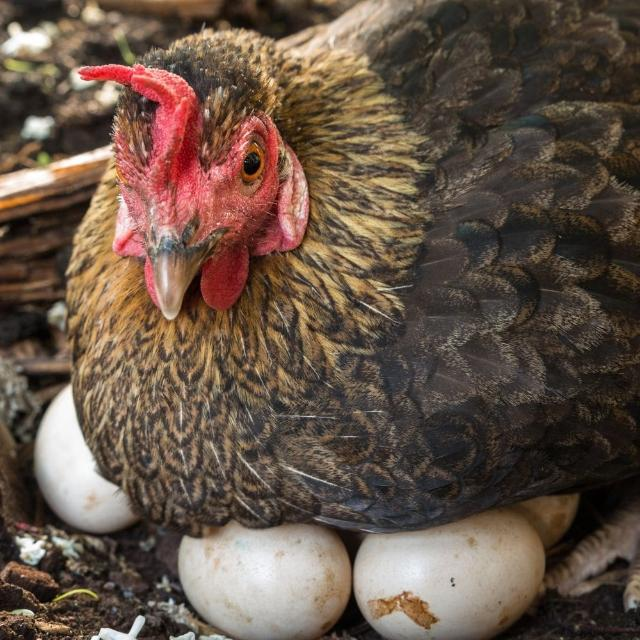Chicken: (64, 0, 640, 523)
